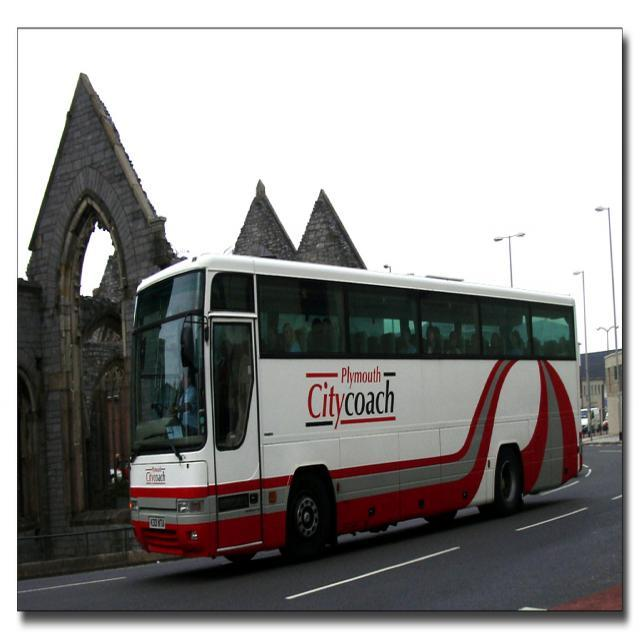motorcycle: (126, 250, 583, 558)
